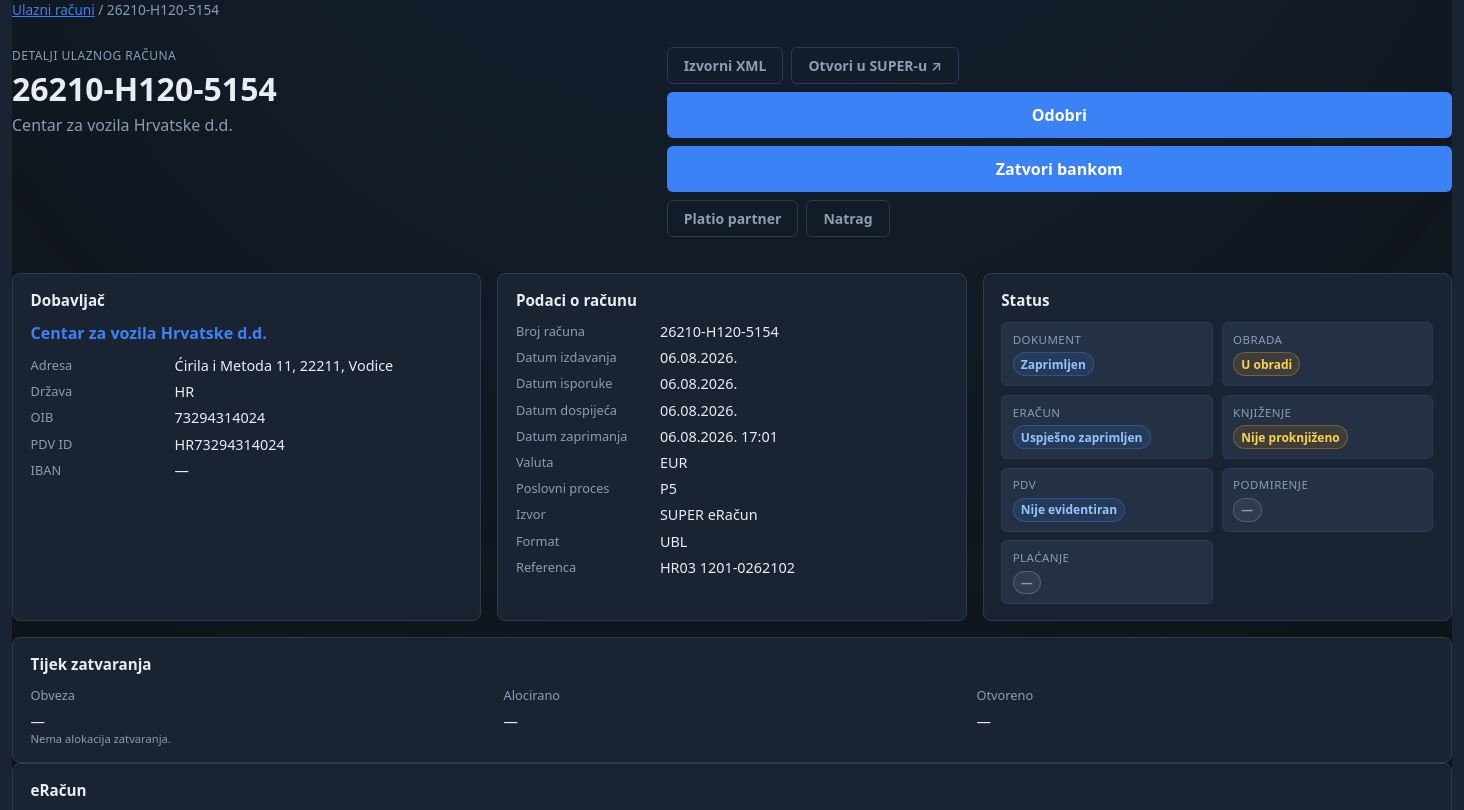
Test: IncomingExpenseDetail › approves a draft via the existing endpoint then refreshes expense and JE
This screenshot has width=1464, height=810.
Click the button "Odobri" at coordinates (1059, 115), box [667,92,1452,138]
(page scrolled)
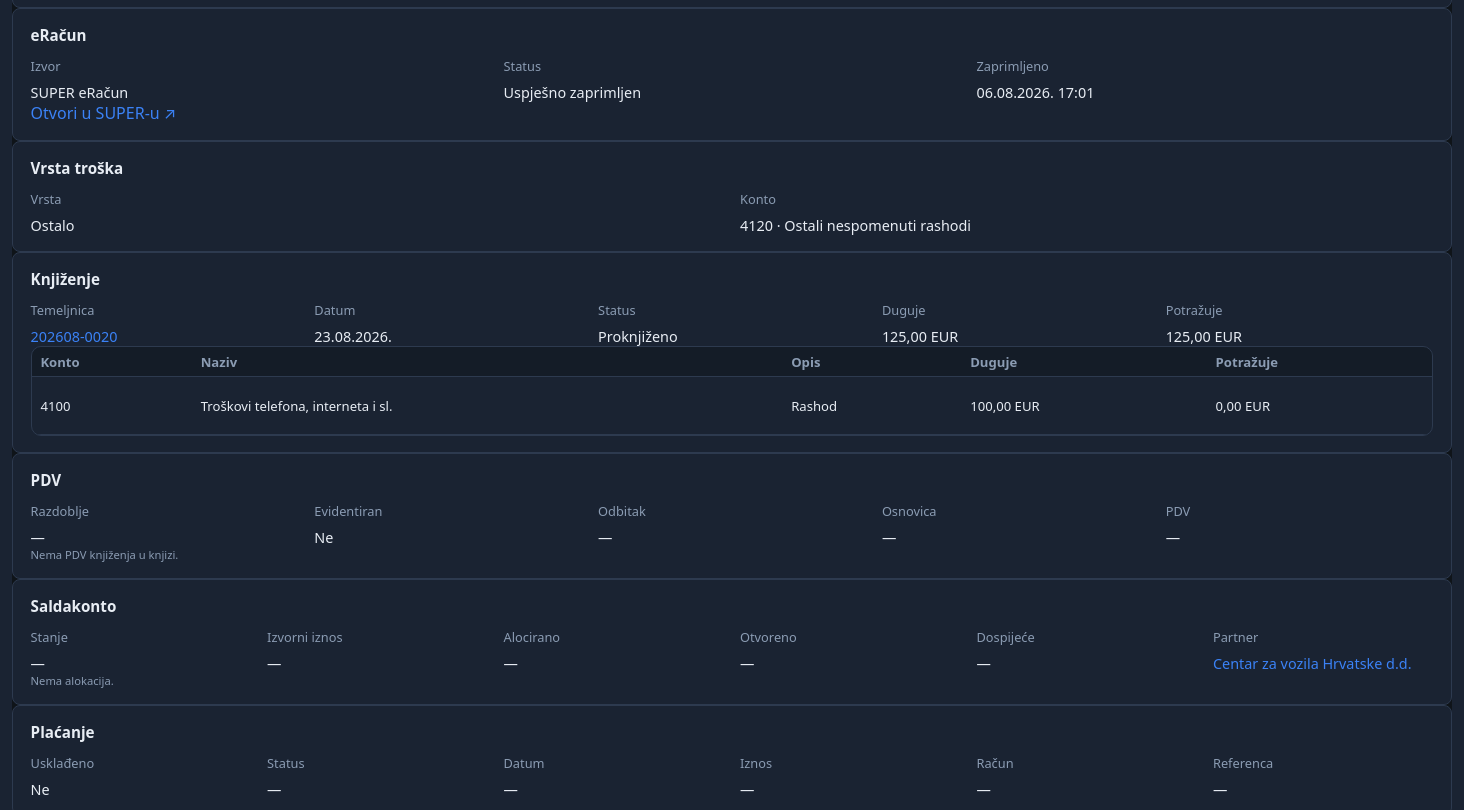
Expected: the text "4100" is shown, [32,377,192,435]
Expected: the button "Odobri" is gone
